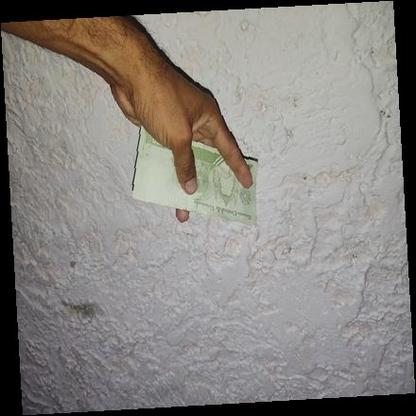vef_back: (132, 121, 258, 226)
